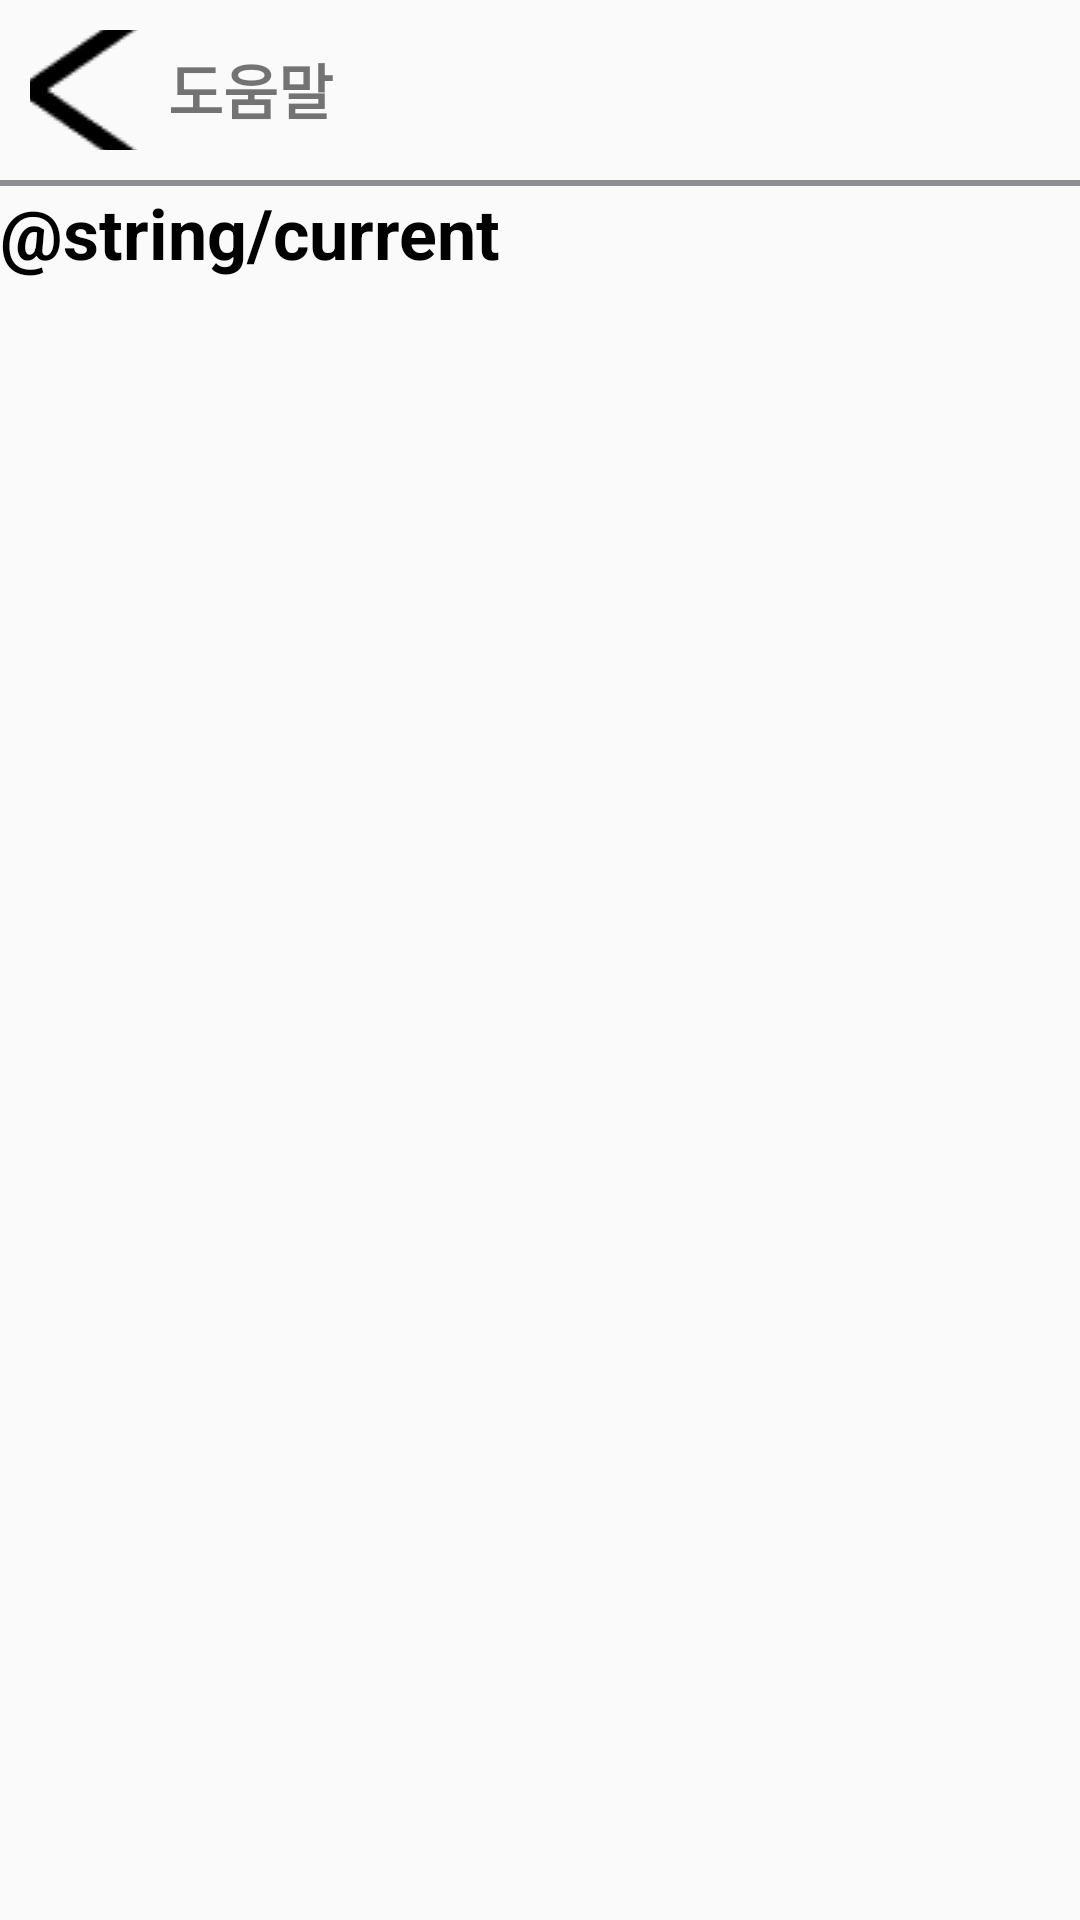

Where to tap for icons on this 1080x1920 app screen, as point (x, y):
back: point (84, 90)
